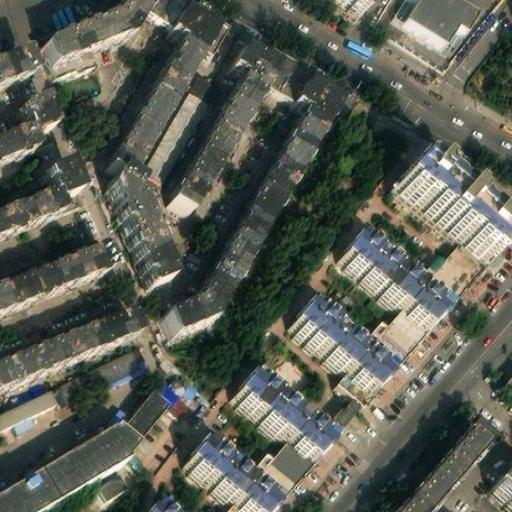building: (170, 105, 324, 331), (174, 38, 339, 214), (339, 240, 482, 399), (0, 420, 134, 512), (394, 150, 507, 257), (397, 412, 502, 512), (335, 223, 441, 322), (286, 293, 389, 387), (231, 361, 331, 454), (148, 66, 224, 180), (180, 429, 277, 512), (0, 154, 80, 230), (49, 345, 147, 405), (253, 434, 310, 512), (0, 102, 50, 166), (115, 391, 159, 436), (92, 470, 129, 505), (486, 462, 512, 506), (143, 495, 182, 512)
